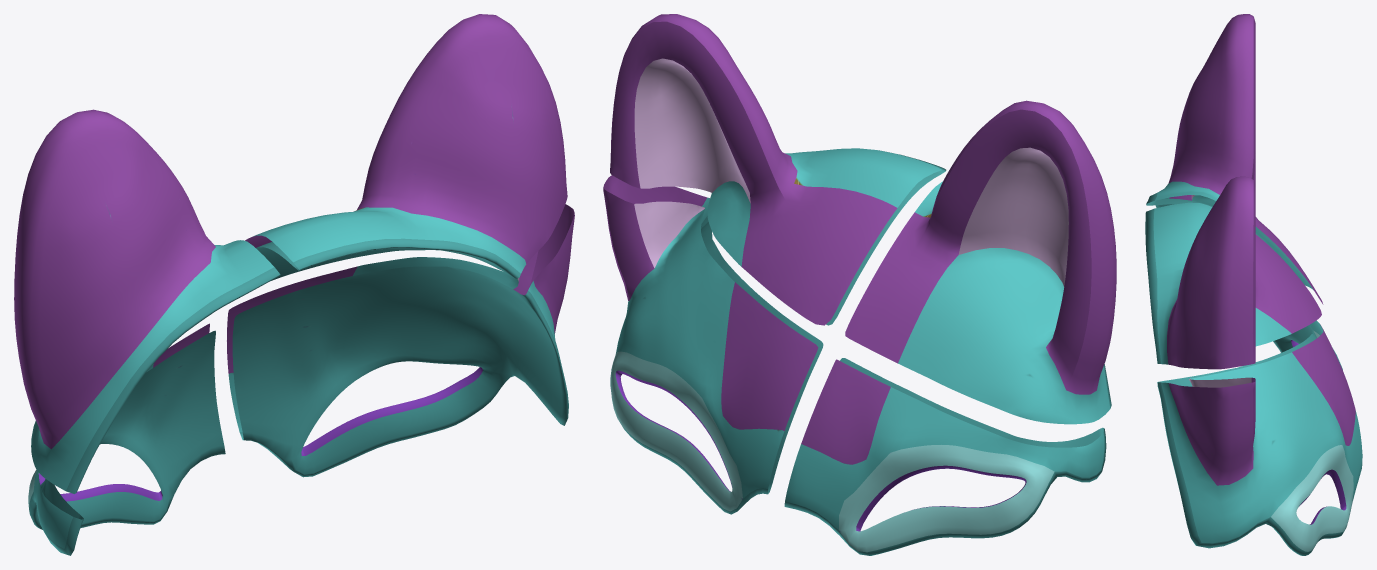
File: shard.fbx
3 views of the same model, side by side, from view 1: azimuth 30°, elevation 25°; view 2: azimuth 150°, elevation 25°; view 3: azimuth 270°, elevation 25° (orthographic). The views are drawn at different scales.
Visible parts, largest first — view 1: U_EnemyShard04; view 2: U_EnemyShard04; view 3: U_EnemyShard04.
Boxes of the visible parts, x1,y1,x2,y2 form: U_EnemyShard04: (14, 14, 574, 555); U_EnemyShard04: (603, 14, 1116, 555); U_EnemyShard04: (1145, 14, 1362, 555).
Bounding box in the file's own units: 1.73 × 1.45 × 0.6953.
